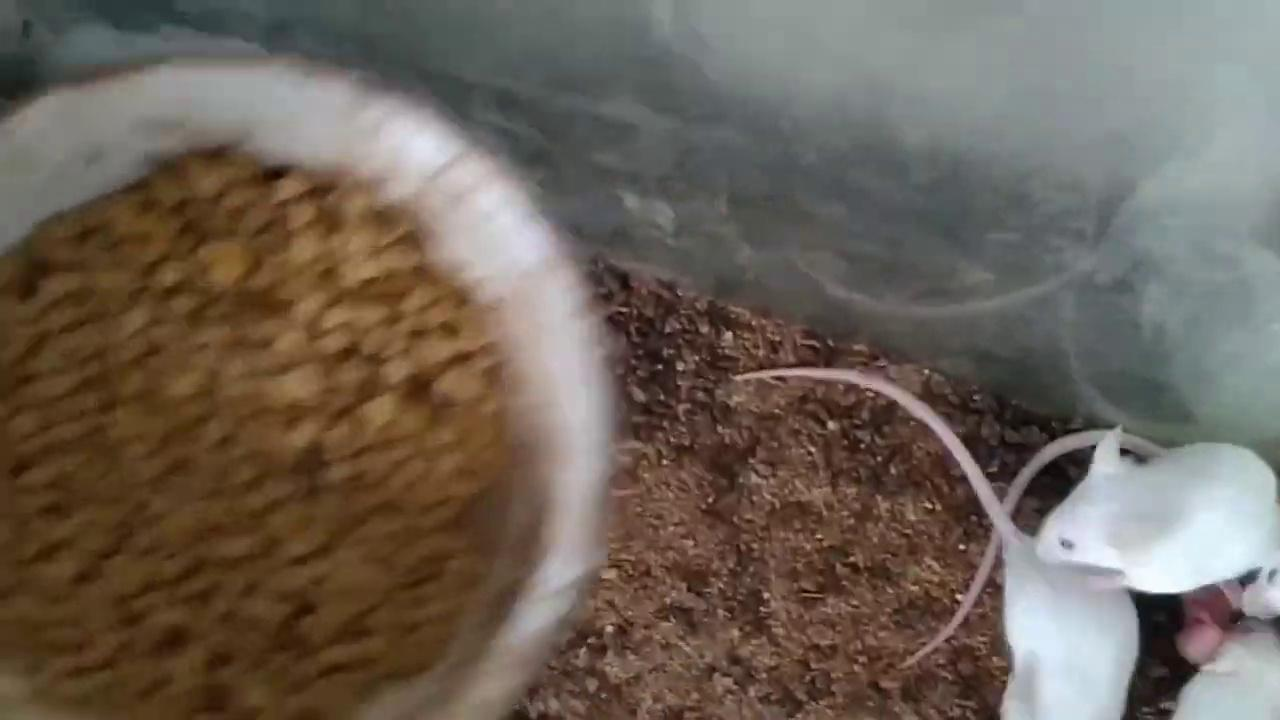rat: (1033, 430, 1280, 591)
